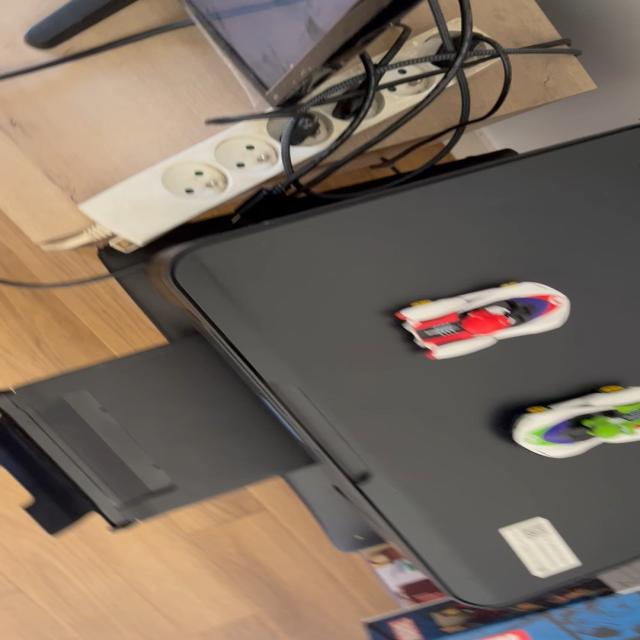mario: (383, 274, 587, 354)
yoshi: (498, 379, 640, 467)
